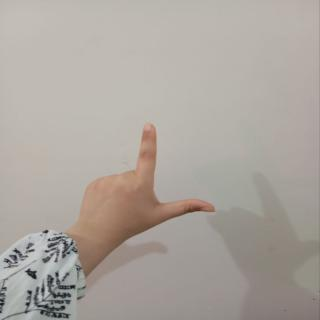LAAM: (72, 116, 223, 240)
